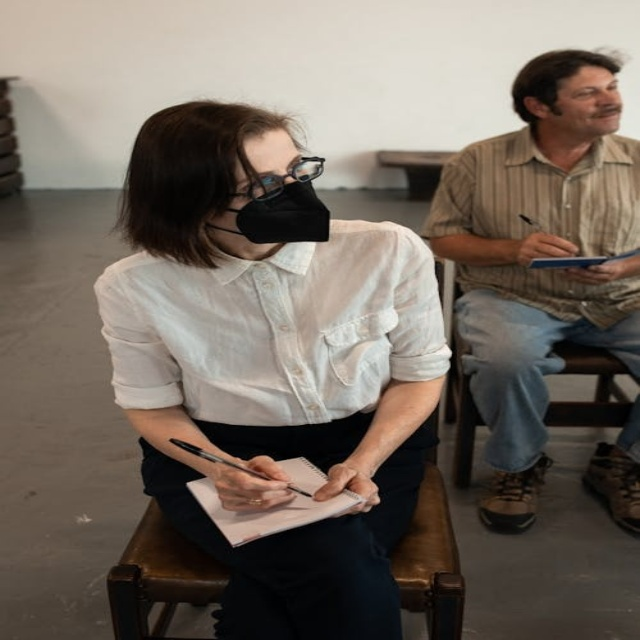Mascara: (204, 172, 329, 247)
Sin_gafas: (568, 77, 622, 98)
Sin_guantes: (211, 452, 289, 517), (310, 458, 381, 520), (553, 253, 626, 289), (515, 228, 580, 268)
Sin_mascara: (582, 105, 622, 125)
